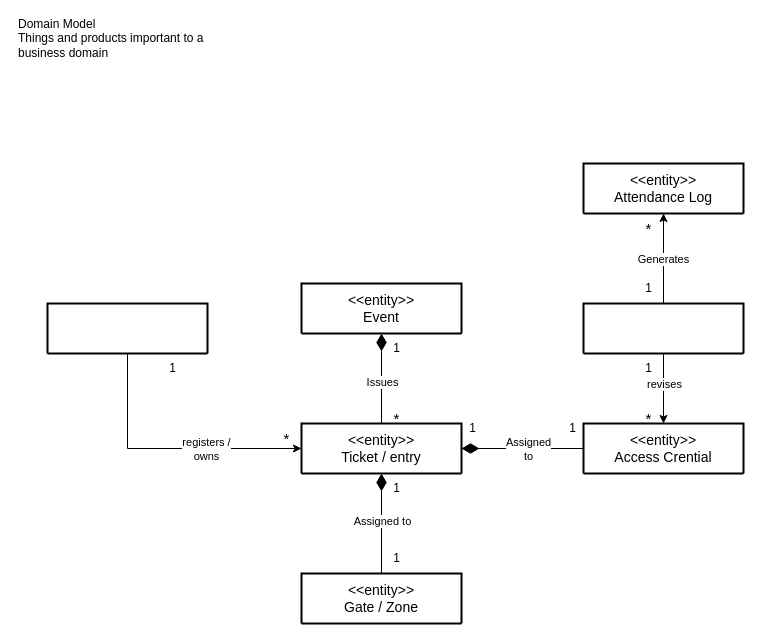
Image size: 761x642. Some labels were removed from this diagram. Each missing label, with the centre of its shape:
<<entity>> Staff Member: point (663, 328)
<<entity>> User: point (127, 328)
